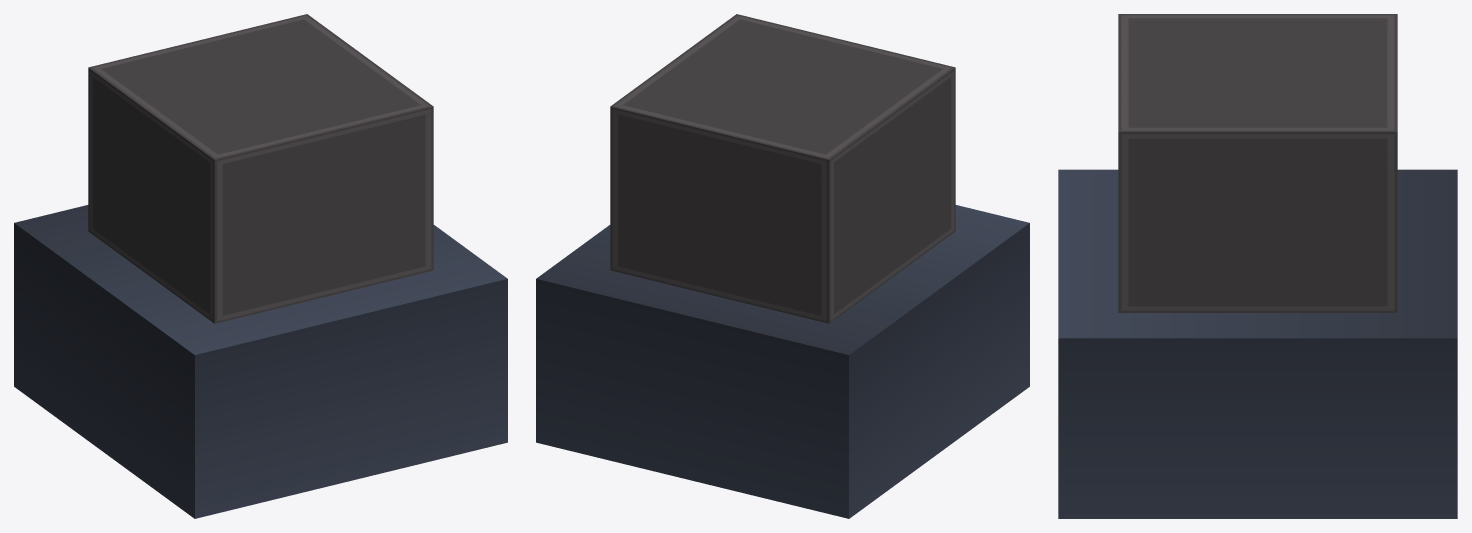
File: KIT_Stair_Spiral_4x4.glb
3 renders of one model, left to right at view 1: azimuth 30°, elevation 25°; view 2: azimuth 150°, elevation 25°; view 3: azimuth 270°, elevation 25°, orthographic. The views are drawn at different scales.
Parts seen in each view (by area): view 1: KIT_Stair_Spiral_4x4; view 2: KIT_Stair_Spiral_4x4; view 3: KIT_Stair_Spiral_4x4.
Boxes of the visible parts, left/top/right/bottom form: KIT_Stair_Spiral_4x4: left=14, top=14, right=507, bottom=518; KIT_Stair_Spiral_4x4: left=536, top=14, right=1029, bottom=518; KIT_Stair_Spiral_4x4: left=1058, top=14, right=1457, bottom=518.
Size of the model in its own units: 4 by 4 by 4.
Materials: 1 (1 with a texture image).
